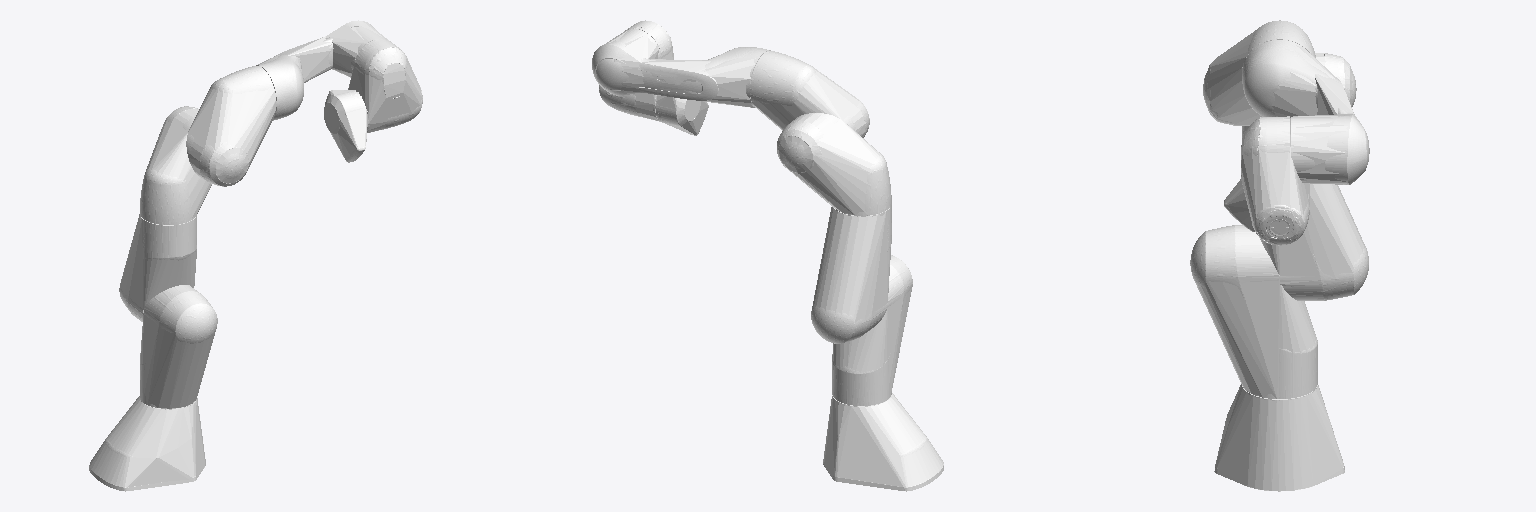
--- Render facts (derived) ---
3 views of the same robot in one strip: view 1: azimuth 30°, elevation 25°; view 2: azimuth 150°, elevation 25°; view 3: azimuth 270°, elevation 25° (orthographic).
Model panda with 19 links and 18 joints (7 revolute, 11 fixed), rooted at world, posed joints at zero except 1 at the middle of their limits (joint4 = -1.57).
Visible links, largest first — view 1: link0, link1, link4, link3, link2, link5, link6, link7; view 2: link2, link0, link5, link3, link1, link4, link6, link7; view 3: link1, link5, link0, link2, link6, link4, link3, link7.
Boxes of the visible links, x1,y1,x2,y2 form: link0: (89,396,205,491); link1: (140,285,217,408); link4: (186,66,276,186); link3: (140,106,211,224); link2: (119,214,196,321); link5: (256,20,387,120); link6: (348,39,422,132); link7: (324,90,367,162); link2: (811,205,891,343); link0: (823,393,943,491); link5: (592,29,770,107); link3: (777,113,891,215); link1: (832,255,912,405); link4: (750,51,869,137); link6: (599,20,673,121); link7: (655,95,708,135); link1: (1190,225,1317,398); link5: (1242,40,1369,184); link0: (1214,384,1344,491); link2: (1260,184,1368,300); link6: (1241,116,1309,245); link4: (1203,20,1315,125); link3: (1242,53,1356,137); link7: (1224,179,1309,231).
Bounding box of the posed robot: 0.7023 × 0.2593 × 0.7866 m (x, y, z).
Meshes: 59 distinct files referenced, 59 mesh visuals loaded (59 binary STL).

URDF robot description (panda):
<?xml version="1.0" ?>
<robot name="panda">
   <link name="world">
      <inertial>
         <origin xyz="0.0 0.0 0.0" rpy="0.0 0.0 0.0"/>
         <mass value="0.0"/>
         <inertia ixx="0.0" iyy="0.0" izz="0.0" ixy="0" ixz="0" iyz="0"/>
      </inertial>
   </link>
   <link name="link0">
      <inertial>
         <origin xyz="-0.041018 -0.00014 0.049974" rpy="2.9931847771355056 -1.4401460588374397 0.14998526383499944"/>
         <mass value="0.629769"/>
         <inertia ixx="0.004304650123430994" iyy="0.0038798390919025367" izz="0.0031305107846664564" ixy="0" ixz="0" iyz="0"/>
      </inertial>
      <visual name="link0_0">
         <origin xyz="-0.02434170827864863 0.06898584107657625 0.037001297313774606" rpy="0.880973363716189 -0.0009012197760431828 1.7310598119246745"/>
         <geometry>
            <mesh filename="package://serial_link_velocity_control/urdf/panda/link0_0.stl"/>
         </geometry>
         <material name="white"/>
      </visual>
      <visual name="link0_1">
         <origin xyz="-0.025005136793976982 0.07288967710097176 0.03697875321042992" rpy="2.3542244690660272 -0.06627609603911444 1.6549332552996283"/>
         <geometry>
            <mesh filename="package://serial_link_velocity_control/urdf/panda/link0_1.stl"/>
         </geometry>
         <material name="white"/>
      </visual>
      <visual name="link0_2">
         <origin xyz="-0.02374683403129674 -0.06535296272360118 0.06299932311266318" rpy="1.570400625854145 -0.00574301314133141 -0.1658989101581949"/>
         <geometry>
            <mesh filename="package://serial_link_velocity_control/urdf/panda/link0_2.stl"/>
         </geometry>
         <material name="white"/>
      </visual>
      <visual name="link0_3">
         <origin xyz="-0.02488420743263477 -0.07268133745438186 0.06293128746546782" rpy="0.8625312366532398 0.08519240253179539 1.2866321540389136"/>
         <geometry>
            <mesh filename="package://serial_link_velocity_control/urdf/panda/link0_3.stl"/>
         </geometry>
         <material name="white"/>
      </visual>
      <visual name="link0_4">
         <origin xyz="-0.06482117710661212 -0.06560424884993189 0.04800137992090077" rpy="0.030375863183620733 0.012032273331113785 1.4114311484698745"/>
         <geometry>
            <mesh filename="package://serial_link_velocity_control/urdf/panda/link0_4.stl"/>
         </geometry>
         <material name="white"/>
      </visual>
      <visual name="link0_5">
         <origin xyz="-0.05963885265197145 0.05788506811766412 0.03690848430709659" rpy="1.7514346619276953 0.0 1.7317833118277146"/>
         <geometry>
            <mesh filename="package://serial_link_velocity_control/urdf/panda/link0_5.stl"/>
         </geometry>
         <material name="white"/>
      </visual>
      <visual name="link0_7">
         <origin xyz="0.011052803835438744 -0.07200003137004433 0.046062701971281546" rpy="-0.12475356481072142 0.0026193383977184403 1.4119155812641373"/>
         <geometry>
            <mesh filename="package://serial_link_velocity_control/urdf/panda/link0_7.stl"/>
         </geometry>
         <material name="white"/>
      </visual>
      <visual name="link0_8">
         <origin xyz="-0.029952925627160853 -3.448017186102211e-05 0.05349454489239895" rpy="-0.0013455850606793884 -1.1356517229066097 -3.1380126798201555"/>
         <geometry>
            <mesh filename="package://serial_link_velocity_control/urdf/panda/link0_8.stl"/>
         </geometry>
         <material name="white"/>
      </visual>
      <visual name="link0_9">
         <origin xyz="-0.024999274401298205 -0.07303207273073183 0.032895042414244305" rpy="1.8630089058543375 -1.5551604165057409 -0.4334036807559073"/>
         <geometry>
            <mesh filename="package://serial_link_velocity_control/urdf/panda/link0_9.stl"/>
         </geometry>
         <material name="white"/>
      </visual>
      <visual name="link0_10">
         <origin xyz="-0.023787200255619093 -0.06548630800088073 0.03297410449192426" rpy="1.545559739370406 -0.011791349830911013 -0.15464279381434776"/>
         <geometry>
            <mesh filename="package://serial_link_velocity_control/urdf/panda/link0_10.stl"/>
         </geometry>
         <material name="white"/>
      </visual>
      <visual name="link0_11">
         <origin xyz="0.011042833195986071 0.07199695886119808 0.046087441451277696" rpy="-0.12477058126482465 -0.0025225701136615264 1.73149025707691"/>
         <geometry>
            <mesh filename="package://serial_link_velocity_control/urdf/panda/link0_11.stl"/>
         </geometry>
         <material name="white"/>
      </visual>
      <visual name="link0_c">
         <origin xyz="-0.029189765433072147 -0.0008794649788944781 0.0566031915141631" rpy="0.07341050648529257 -1.1999954549116756 3.0813768508296935"/>
         <geometry>
            <mesh filename="package://serial_link_velocity_control/urdf/panda/link0_c.stl"/>
         </geometry>
         <material name="white"/>
      </visual>
   </link>
   <link name="world2link0_fixed_jointbody">
      <inertial>
         <origin xyz="0.0 0.0 0.0" rpy="0.0 0.0 0.0"/>
         <mass value="0.001"/>
         <inertia ixx="1e-09" iyy="1e-09" izz="1e-09" ixy="0" ixz="0" iyz="0"/>
      </inertial>
   </link>
   <joint type="fixed" name="world2link0_fixed">
      <parent link="world"/>
      <child link="world2link0_fixed_jointbody"/>
      <origin xyz="0.0 0.0 0.0" rpy="0.0 0.0 0.0"/>
   </joint>
   <joint type="fixed" name="world2link0_fixed_offset">
      <parent link="world2link0_fixed_jointbody"/>
      <child link="link0"/>
      <origin xyz="-0.0 -0.0 -0.0" rpy="0.0 0.0 0.0"/>
   </joint>
   <link name="link1">
      <inertial>
         <origin xyz="0.003875 0.002081 -0.04762" rpy="-0.009398424463752386 -0.027576527378002424 1.5581062750829506"/>
         <mass value="4.970684"/>
         <inertia ixx="0.7071370144883009" iyy="0.7034354292338564" izz="0.00852455627784294" ixy="0" ixz="0" iyz="0"/>
      </inertial>
      <visual name="link1">
         <origin xyz="2.2415553023489027e-06 -0.0324793865141835 -0.06757586693056468" rpy="0.38337043294216616 0.0001406289803520533 -0.0003788308259348727"/>
         <geometry>
            <mesh filename="package://serial_link_velocity_control/urdf/panda/link1.stl"/>
         </geometry>
         <material name="white"/>
      </visual>
      <visual name="link1_c">
         <origin xyz="1.139898131675401e-05 -0.03126552803743275 -0.06937330598619522" rpy="0.3507575596779383 -0.00032182734340535646 0.0006491282822314315"/>
         <geometry>
            <mesh filename="package://serial_link_velocity_control/urdf/panda/link1_c.stl"/>
         </geometry>
         <material name="white"/>
      </visual>
   </link>
   <link name="joint1_jointbody">
      <inertial>
         <origin xyz="0.0 0.0 0.0" rpy="0.0 0.0 0.0"/>
         <mass value="0.001"/>
         <inertia ixx="1e-09" iyy="1e-09" izz="1e-09" ixy="0" ixz="0" iyz="0"/>
      </inertial>
   </link>
   <joint type="revolute" name="joint1">
      <parent link="link0"/>
      <child link="joint1_jointbody"/>
      <origin xyz="0.0 0.0 0.333" rpy="0.0 0.0 0.0"/>
      <axis xyz="0.0 0.0 1.0"/>
      <limit lower="-2.8973" upper="2.8973" effort="100" velocity="100"/>
   </joint>
   <joint type="fixed" name="joint1_offset">
      <parent link="joint1_jointbody"/>
      <child link="link1"/>
      <origin xyz="-0.0 -0.0 -0.0" rpy="0.0 0.0 0.0"/>
   </joint>
   <link name="link2">
      <inertial>
         <origin xyz="-0.003141 -0.02872 0.003495" rpy="-2.351445390606804 -0.9617881563253395 -0.7229855148468698"/>
         <mass value="0.646926"/>
         <inertia ixx="0.03103264256517663" iyy="0.02830010693683385" izz="0.0027342504979895274" ixy="0" ixz="0" iyz="0"/>
      </inertial>
      <visual name="link2">
         <origin xyz="3.082552814544877e-06 -0.0686027528932163 0.03220972991497953" rpy="1.9510754572522944 -0.0003910639464024257 -0.0001327986982335716"/>
         <geometry>
            <mesh filename="package://serial_link_velocity_control/urdf/panda/link2.stl"/>
         </geometry>
         <material name="white"/>
      </visual>
      <visual name="link2_c">
         <origin xyz="-1.3176553398219796e-05 -0.07032155252075616 0.031178239145109848" rpy="1.9167766250212854 3.8633865331982875e-05 -0.00017520097652501398"/>
         <geometry>
            <mesh filename="package://serial_link_velocity_control/urdf/panda/link2_c.stl"/>
         </geometry>
         <material name="white"/>
      </visual>
   </link>
   <link name="joint2_jointbody">
      <inertial>
         <origin xyz="0.0 0.0 0.0" rpy="0.0 0.0 0.0"/>
         <mass value="0.001"/>
         <inertia ixx="1e-09" iyy="1e-09" izz="1e-09" ixy="0" ixz="0" iyz="0"/>
      </inertial>
   </link>
   <joint type="revolute" name="joint2">
      <parent link="link1"/>
      <child link="joint2_jointbody"/>
      <origin xyz="0.0 0.0 0.0" rpy="-1.5707963267948957 0.0 0.0"/>
      <axis xyz="0.0 0.0 1.0"/>
      <limit lower="-1.7628" upper="1.7628" effort="100" velocity="100"/>
   </joint>
   <joint type="fixed" name="joint2_offset">
      <parent link="joint2_jointbody"/>
      <child link="link2"/>
      <origin xyz="-0.0 -0.0 -0.0" rpy="0.0 0.0 0.0"/>
   </joint>
   <link name="link3">
      <inertial>
         <origin xyz="0.027518 0.039252 -0.066502" rpy="0.3778501466112161 0.35082398169136897 1.700415077209322"/>
         <mass value="3.228604"/>
         <inertia ixx="0.04150138828861061" iyy="0.041479257270665607" izz="0.0012463544407238245" ixy="0" ixz="0" iyz="0"/>
      </inertial>
      <visual name="link3_0">
         <origin xyz="0.041640068238247625 0.02444145064489676 -0.03727492899749336" rpy="0.5706582651359984 -0.7242337013714822 2.9041155029297663"/>
         <geometry>
            <mesh filename="package://serial_link_velocity_control/urdf/panda/link3_0.stl"/>
         </geometry>
         <material name="white"/>
      </visual>
      <visual name="link3_1">
         <origin xyz="0.021553479391113937 -0.011223170495539583 -0.011548319295510683" rpy="-3.120213348556372 -1.0597565825250004 -1.4907529125912147"/>
         <geometry>
            <mesh filename="package://serial_link_velocity_control/urdf/panda/link3_1.stl"/>
         </geometry>
         <material name="white"/>
      </visual>
      <visual name="link3_2">
         <origin xyz="0.05687671258214232 -0.011394921134909891 -0.061174465035796516" rpy="0.001435371332802804 -0.007864445829217637 2.35018648336946"/>
         <geometry>
            <mesh filename="package://serial_link_velocity_control/urdf/panda/link3_2.stl"/>
         </geometry>
         <material name="white"/>
      </visual>
      <visual name="link3_3">
         <origin xyz="0.0774911722691585 0.07963346976350043 -0.004022888793941207" rpy="0.9103807155185194 0.053157500438791194 1.6361659571787897"/>
         <geometry>
            <mesh filename="package://serial_link_velocity_control/urdf/panda/link3_3.stl"/>
         </geometry>
         <material name="white"/>
      </visual>
      <visual name="link3_c">
         <origin xyz="0.04434830616977217 0.02492832585533832 -0.038129984535498415" rpy="0.626428153968636 -0.648912402886591 2.7888150643653695"/>
         <geometry>
            <mesh filename="package://serial_link_velocity_control/urdf/panda/link3_c.stl"/>
         </geometry>
         <material name="white"/>
      </visual>
   </link>
   <link name="joint3_jointbody">
      <inertial>
         <origin xyz="0.0 0.0 0.0" rpy="0.0 0.0 0.0"/>
         <mass value="0.001"/>
         <inertia ixx="1e-09" iyy="1e-09" izz="1e-09" ixy="0" ixz="0" iyz="0"/>
      </inertial>
   </link>
   <joint type="revolute" name="joint3">
      <parent link="link2"/>
      <child link="joint3_jointbody"/>
      <origin xyz="0.0 -0.316 0.0" rpy="1.5707963267948963 0.0 0.0"/>
      <axis xyz="0.0 0.0 1.0"/>
      <limit lower="-2.8973" upper="2.8973" effort="100" velocity="100"/>
   </joint>
   <joint type="fixed" name="joint3_offset">
      <parent link="joint3_jointbody"/>
      <child link="link3"/>
      <origin xyz="-0.0 -0.0 -0.0" rpy="0.0 0.0 0.0"/>
   </joint>
   <link name="link4">
      <inertial>
         <origin xyz="-0.05317 0.104419 0.027454" rpy="0.9491374145817448 -0.7651341090237642 0.9696855662634021"/>
         <mass value="3.587895"/>
         <inertia ixx="0.03495964042412706" iyy="0.028148276242039156" izz="0.010620083333833793" ixy="0" ixz="0" iyz="0"/>
      </inertial>
      <visual name="link4_0">
         <origin xyz="-0.025622488327255118 0.06118521662292073 -0.011393831419087433" rpy="-1.5781503842543603 -0.791264048531453 -3.129597040233699"/>
         <geometry>
            <mesh filename="package://serial_link_velocity_control/urdf/panda/link4_0.stl"/>
         </geometry>
         <material name="white"/>
      </visual>
      <visual name="link4_1">
         <origin xyz="-0.041551945541200064 0.0386938054188419 0.0240401850668444" rpy="1.1469171347861942 0.32720361122677777 0.6576570081488589"/>
         <geometry>
            <mesh filename="package://serial_link_velocity_control/urdf/panda/link4_1.stl"/>
         </geometry>
         <material name="white"/>
      </visual>
      <visual name="link4_2">
         <origin xyz="-0.005009009022661778 0.004010283391626417 0.07963447115932043" rpy="0.01728704864213415 -1.486693348601789 2.462376326505357"/>
         <geometry>
            <mesh filename="package://serial_link_velocity_control/urdf/panda/link4_2.stl"/>
         </geometry>
         <material name="white"/>
      </visual>
      <visual name="link4_3">
         <origin xyz="-0.060935694895702566 0.011544521319742486 -0.011228485394216723" rpy="-0.11249836460882134 -0.5091463835382632 1.6149866607207919"/>
         <geometry>
            <mesh filename="package://serial_link_velocity_control/urdf/panda/link4_3.stl"/>
         </geometry>
         <material name="white"/>
      </visual>
      <visual name="link4_c">
         <origin xyz="-0.038550294327056006 0.03952560974766748 0.024716241456280232" rpy="1.1575252530204931 0.36233734062035716 0.6286469250141417"/>
         <geometry>
            <mesh filename="package://serial_link_velocity_control/urdf/panda/link4_c.stl"/>
         </geometry>
         <material name="white"/>
      </visual>
   </link>
   <link name="joint4_jointbody">
      <inertial>
         <origin xyz="0.0 0.0 0.0" rpy="0.0 0.0 0.0"/>
         <mass value="0.001"/>
         <inertia ixx="1e-09" iyy="1e-09" izz="1e-09" ixy="0" ixz="0" iyz="0"/>
      </inertial>
   </link>
   <joint type="revolute" name="joint4">
      <parent link="link3"/>
      <child link="joint4_jointbody"/>
      <origin xyz="0.0825 0.0 0.0" rpy="1.5707963267948963 0.0 0.0"/>
      <axis xyz="0.0 0.0 1.0"/>
      <limit lower="-3.0718" upper="-0.0698" effort="100" velocity="100"/>
   </joint>
   <joint type="fixed" name="joint4_offset">
      <parent link="joint4_jointbody"/>
      <child link="link4"/>
      <origin xyz="-0.0 -0.0 -0.0" rpy="0.0 0.0 0.0"/>
   </joint>
   <link name="link5">
      <inertial>
         <origin xyz="-0.011953 0.041065 -0.038437" rpy="-0.044814900263277224 0.13901987254385828 -0.28689982178911855"/>
         <mass value="1.225946"/>
         <inertia ixx="0.036762538266730406" iyy="0.028853091260661545" izz="0.008034370472607986" ixy="0" ixz="0" iyz="0"/>
      </inertial>
      <visual name="link5_0">
         <origin xyz="-0.00012909492629801462 0.09575388251980099 -0.032729627427273554" rpy="0.0021646835541119236 0.04994665119289898 1.567102784696114"/>
         <geometry>
            <mesh filename="package://serial_link_velocity_control/urdf/panda/link5_0.stl"/>
         </geometry>
         <material name="white"/>
      </visual>
      <visual name="link5_1">
         <origin xyz="-0.010146972443801154 0.10322721118137058 -0.11142128916989294" rpy="0.12574712873999883 0.1740382997721901 1.6920328910758133"/>
         <geometry>
            <mesh filename="package://serial_link_velocity_control/urdf/panda/link5_1.stl"/>
         </geometry>
         <material name="white"/>
      </visual>
      <visual name="link5_2">
         <origin xyz="-1.4686699630523936e-07 0.04425269920212681 -0.1112985359040258" rpy="-0.277000339204742 2.4900251497594894e-05 6.554603773703538e-05"/>
         <geometry>
            <mesh filename="package://serial_link_velocity_control/urdf/panda/link5_2.stl"/>
         </geometry>
         <material name="white"/>
      </visual>
      <visual name="link5_c0">
         <origin xyz="0.0009732588248875004 0.01992222155582667 -0.2091069569367147" rpy="-2.9667461948525857 -0.9061652263669018 -1.8724935166030865"/>
         <geometry>
            <mesh filename="package://serial_link_velocity_control/urdf/panda/link5_c0.stl"/>
         </geometry>
         <material name="white"/>
      </visual>
      <visual name="link5_c1">
         <origin xyz="-0.00023507017418093157 0.08005924943045238 -0.1211534524078704" rpy="0.003785613762778528 0.24683558048800136 1.566413582373388"/>
         <geometry>
            <mesh filename="package://serial_link_velocity_control/urdf/panda/link5_c1.stl"/>
         </geometry>
         <material name="white"/>
      </visual>
      <visual name="link5_c2">
         <origin xyz="0.00015025343019191157 0.06918297231373394 -0.0045388308900191476" rpy="1.1780917965966649 -0.005182717314899277 0.005207657314431291"/>
         <geometry>
            <mesh filename="package://serial_link_velocity_control/urdf/panda/link5_c2.stl"/>
         </geometry>
         <material name="white"/>
      </visual>
   </link>
   <link name="joint5_jointbody">
      <inertial>
         <origin xyz="0.0 0.0 0.0" rpy="0.0 0.0 0.0"/>
         <mass value="0.001"/>
         <inertia ixx="1e-09" iyy="1e-09" izz="1e-09" ixy="0" ixz="0" iyz="0"/>
      </inertial>
   </link>
   <joint type="revolute" name="joint5">
      <parent link="link4"/>
      <child link="joint5_jointbody"/>
      <origin xyz="-0.0825 0.384 0.0" rpy="-1.5707963267948957 0.0 0.0"/>
      <axis xyz="0.0 0.0 1.0"/>
      <limit lower="-2.8973" upper="2.8973" effort="100" velocity="100"/>
   </joint>
   <joint type="fixed" name="joint5_offset">
      <parent link="joint5_jointbody"/>
      <child link="link5"/>
      <origin xyz="-0.0 -0.0 -0.0" rpy="0.0 0.0 0.0"/>
   </joint>
   <link name="link6">
      <inertial>
         <origin xyz="0.060149 -0.014117 -0.010517" rpy="0.5130248250154139 -1.226242130979657 2.5246615081940447"/>
         <mass value="1.666555"/>
         <inertia ixx="0.005842761226567758" iyy="0.004310373704197247" izz="0.001597865069234999" ixy="0" ixz="0" iyz="0"/>
      </inertial>
      <visual name="link6_0">
         <origin xyz="0.02538686447802162 -0.015517999517566645 -0.005139967609184323" rpy="0.16938182569949167 -1.5174186885981678 2.459071962290328"/>
         <geometry>
            <mesh filename="package://serial_link_velocity_control/urdf/panda/link6_0.stl"/>
         </geometry>
         <material name="white"/>
      </visual>
      <visual name="link6_1">
         <origin xyz="9.689128832379959e-05 0.0014892221633303964 0.052967305243251064" rpy="-1.7817827520867562 -1.469193019363885 -3.137555930389527"/>
         <geometry>
            <mesh filename="package://serial_link_velocity_control/urdf/panda/link6_1.stl"/>
         </geometry>
         <material name="white"/>
      </visual>
      <visual name="link6_2">
         <origin xyz="0.10335279374141482 0.06819413403472291 -0.0005820739711053017" rpy="1.4199871988638346 -0.00991189976398843 1.3432543848060097"/>
         <geometry>
            <mesh filename="package://serial_link_velocity_control/urdf/panda/link6_2.stl"/>
         </geometry>
         <material name="white"/>
      </visual>
      <visual name="link6_3">
         <origin xyz="0.08820547902869498 0.07772552742710913 -0.010604832221086087" rpy="0.0 0.0 0.0"/>
         <geometry>
            <mesh filename="package://serial_link_velocity_control/urdf/panda/link6_3.stl"/>
         </geometry>
         <material name="white"/>
      </visual>
      <visual name="link6_4">
         <origin xyz="0.09866820805357215 0.07588488001934049 -3.81838160576121e-06" rpy="1.5707963267948966 0.0 1.5707963267948966"/>
         <geometry>
            <mesh filename="package://serial_link_velocity_control/urdf/panda/link6_4.stl"/>
         </geometry>
         <material name="white"/>
      </visual>
      <visual name="link6_5">
         <origin xyz="0.08820306922578453 0.07772792027195963 0.010619455932352537" rpy="0.0 0.0 0.0"/>
         <geometry>
            <mesh filename="package://serial_link_velocity_control/urdf/panda/link6_5.stl"/>
         </geometry>
         <material name="white"/>
      </visual>
      <visual name="link6_6">
         <origin xyz="0.07775599126433871 0.07956951222410712 -2.4452554468482235e-06" rpy="1.5707963267948966 0.0 1.5707963267948966"/>
         <geometry>
            <mesh filename="package://serial_link_velocity_control/urdf/panda/link6_6.stl"/>
         </geometry>
         <material name="white"/>
      </visual>
      <visual name="link6_7">
         <origin xyz="0.06338933259232485 0.08160700790590893 -1.3937560629892504e-07" rpy="0.0 0.0 0.0"/>
         <geometry>
            <mesh filename="package://serial_link_velocity_control/urdf/panda/link6_7.stl"/>
         </geometry>
         <material name="white"/>
      </visual>
      <visual name="link6_8">
         <origin xyz="0.11443524703111396 0.07093671511705132 -1.2390757832945407e-06" rpy="0.0 0.0 0.0"/>
         <geometry>
            <mesh filename="package://serial_link_velocity_control/urdf/panda/link6_8.stl"/>
         </geometry>
         <material name="white"/>
      </visual>
      <visual name="link6_9">
         <origin xyz="-0.0007293920031106048 -0.00010126877906188475 0.05253737664613466" rpy="-0.012449674714164694 -1.4689421759503425 3.141592653589792"/>
         <geometry>
            <mesh filename="package://serial_link_velocity_control/urdf/panda/link6_9.stl"/>
         </geometry>
         <material name="white"/>
      </visual>
      <visual name="link6_10">
         <origin xyz="0.09152592175245416 0.0757530570043529 -6.295970548351355e-05" rpy="1.6008551676500014 -0.0005903012823613718 1.3515726366307061"/>
         <geometry>
            <mesh filename="package://serial_link_velocity_control/urdf/panda/link6_10.stl"/>
         </geometry>
         <material name="white"/>
      </visual>
      <visual name="link6_11">
         <origin xyz="0.08805238798691446 0.07680706807855985 -1.2221260829161016e-05" rpy="0.0 0.0 1.3960084451673758"/>
         <geometry>
            <mesh filename="package://serial_link_velocity_control/urdf/panda/link6_11.stl"/>
         </geometry>
         <material name="white"/>
      </visual>
      <visual name="link6_12">
         <origin xyz="0.08830262427138909 0.07748927077959734 -0.024865583303171047" rpy="0.0 0.0 0.0"/>
         <geometry>
            <mesh filename="package://serial_link_velocity_control/urdf/panda/link6_12.stl"/>
         </geometry>
         <material name="white"/>
      </visual>
      <visual name="link6_13">
         <origin xyz="0.08817030186691406 0.07745552562261102 0.025032424929417766" rpy="0.0 0.0 0.0"/>
         <geometry>
            <mesh filename="package://serial_link_velocity_control/urdf/panda/link6_13.stl"/>
         </geometry>
         <material name="white"/>
      </visual>
      <visual name="link6_14">
         <origin xyz="0.007414994534614738 0.00012494443217778557 0.04372135866398126" rpy="0.028641362656910196 -1.4710580780940545 3.124202338178222"/>
         <geometry>
            <mesh filename="package://serial_link_velocity_control/urdf/panda/link6_14.stl"/>
         </geometry>
         <material name="white"/>
      </visual>
      <visual name="link6_15">
         <origin xyz="0.08954532269660534 0.07420171067115874 -2.5736658022989506e-05" rpy="1.545020808617562 5.602602767806886e-05 1.3505365066848027"/>
         <geometry>
            <mesh filename="package://serial_link_velocity_control/urdf/panda/link6_15.stl"/>
         </geometry>
         <material name="white"/>
      </visual>
      <visual name="link6_16">
         <origin xyz="0.058400500168428585 0.0035178914667928943 0.008369866685103824" rpy="2.9469650358345403 -1.3099440708155625 0.18028473465261263"/>
         <geometry>
            <mesh filename="package://serial_link_velocity_control/urdf/panda/link6_16.stl"/>
         </geometry>
         <material name="white"/>
      </visual>
      <visual name="link6_c">
         <origin xyz="0.05100229436563991 0.00693267296652053 0.006168993350723507" rpy="-3.0615998737983503 -1.4277689715854656 0.048520706407402026"/>
         <geometry>
            <mesh filename="package://serial_link_velocity_control/urdf/panda/link6_c.stl"/>
         </geometry>
         <material name="white"/>
      </visual>
   </link>
   <link name="joint6_jointbody">
      <inertial>
         <origin xyz="0.0 0.0 0.0" rpy="0.0 0.0 0.0"/>
         <mass value="0.001"/>
         <inertia ixx="1e-09" iyy="1e-09" izz="1e-09" ixy="0" ixz="0" iyz="0"/>
      </inertial>
   </link>
   <joint type="revolute" name="joint6">
      <parent link="link5"/>
      <child link="joint6_jointbody"/>
      <origin xyz="0.0 0.0 0.0" rpy="1.5707963267948963 0.0 0.0"/>
      <axis xyz="0.0 0.0 1.0"/>
      <limit lower="-0.0175" upper="3.7525" effort="100" velocity="100"/>
   </joint>
   <joint type="fixed" name="joint6_offset">
      <parent link="joint6_jointbody"/>
      <child link="link6"/>
      <origin xyz="-0.0 -0.0 -0.0" rpy="0.0 0.0 0.0"/>
   </joint>
   <link name="link7">
      <inertial>
         <origin xyz="0.010517 -0.004252 0.061597" rpy="-0.16143881793285997 0.13793462387520372 -0.11924774686192664"/>
         <mass value="0.735522"/>
         <inertia ixx="0.012734492874724473" iyy="0.01010547714435622" izz="0.004518029980919309" ixy="0" ixz="0" iyz="0"/>
      </inertial>
      <visual name="link7_0">
         <origin xyz="0.0417779426692942 0.04183594153686578 0.08217258109746292" rpy="-1.5847380549916703 -1.3546061346436344 -2.3566710587689474"/>
         <geometry>
            <mesh filename="package://serial_link_velocity_control/urdf/panda/link7_0.stl"/>
         </geometry>
         <material name="white"/>
      </visual>
      <visual name="link7_1">
         <origin xyz="0.06381389846298816 0.017703890911316744 0.08298637529119146" rpy="1.8028623083017221 0.00204124247127746 -0.7013431721034276"/>
         <geometry>
            <mesh filename="package://serial_link_velocity_control/urdf/panda/link7_1.stl"/>
         </geometry>
         <material name="white"/>
      </visual>
      <visual name="link7_2">
         <origin xyz="-0.03175903413233844 -0.03176074799868773 0.08578121033420426" rpy="-1.6960048566709056 -1.4537424549146334 2.4810845843512017"/>
         <geometry>
            <mesh filename="package://serial_link_velocity_control/urdf/panda/link7_2.stl"/>
         </geometry>
         <material name="white"/>
      </visual>
      <visual name="link7_3">
         <origin xyz="-0.03695030723409938 -0.03694226974833503 0.08580172086500923" rpy="0.0 0.0 0.785109248980203"/>
         <geometry>
            <mesh filename="package://serial_link_velocity_control/urdf/panda/link7_3.stl"/>
         </geometry>
         <material name="white"/>
      </visual>
      <visual name="link7_4">
         <origin xyz="-0.03770673339557498 -0.0377089860787648 0.08578035625964707" rpy="0.0 0.0 0.7851522524329011"/>
         <geometry>
            <mesh filename="package://serial_link_velocity_control/urdf/panda/link7_4.stl"/>
         </geometry>
         <material name="white"/>
      </visual>
      <visual name="link7_5">
         <origin xyz="0.017698489516545266 0.0638384990368043 0.08295575737681099" rpy="1.3374821199933173 0.0024362159157849117 2.271496449874789"/>
         <geometry>
            <mesh filename="package://serial_link_velocity_control/urdf/panda/link7_5.stl"/>
         </geometry>
         <material name="white"/>
      </visual>
      <visual name="link7_6">
         <origin xyz="0.041159655074071815 0.04120412941972867 0.06775823859611065" rpy="-1.575019937447098 -1.2906385873622823 -2.352616845843026"/>
         <geometry>
            <mesh filename="package://serial_link_velocity_control/urdf/panda/link7_6.stl"/>
         </geometry>
         <material name="white"/>
      </visual>
      <visual name="link7_7">
         <origin xyz="1.216750754237956e-06 4.2939759647026276e-05 0.07774802576613041" rpy="-1.6481695820319127 -1.5676263444402883 -1.495812317959907"/>
         <geometry>
            <mesh filename="package://serial_link_velocity_control/urdf/panda/link7_7.stl"/>
         </geometry>
         <material name="white"/>
      </visual>
      <visual name="link7_c">
         <origin xyz="0.010361372115882629 0.010359603871236887 0.07910777287138845" rpy="3.138032285623005 -1.5171405401134985 -2.3520385516245224"/>
         <geometry>
            <mesh filename="package://serial_link_velocity_control/urdf/panda/link7_c.stl"/>
         </geometry>
         <material name="white"/>
      </visual>
   </link>
   <link name="joint7_jointbody">
      <inertial>
         <origin xyz="0.0 0.0 0.0" rpy="0.0 0.0 0.0"/>
         <mass value="0.001"/>
         <inertia ixx="1e-09" iyy="1e-09" izz="1e-09" ixy="0" ixz="0" iyz="0"/>
      </inertial>
   </link>
   <joint type="revolute" name="joint7">
      <parent link="link6"/>
      <child link="joint7_jointbody"/>
      <origin xyz="0.088 0.0 0.0" rpy="1.5707963267948963 0.0 0.0"/>
      <axis xyz="0.0 0.0 1.0"/>
      <limit lower="-2.8973" upper="2.8973" effort="100" velocity="100"/>
   </joint>
   <joint type="fixed" name="joint7_offset">
      <parent link="joint7_jointbody"/>
      <child link="link7"/>
      <origin xyz="-0.0 -0.0 -0.0" rpy="0.0 0.0 0.0"/>
   </joint>
   <link name="attachment">
      <inertial>
         <origin xyz="0.0 0.0 0.107" rpy="0.0 0.0 2.3561945251121728"/>
         <mass value="0.0"/>
         <inertia ixx="0.0" iyy="0.0" izz="0.0" ixy="0" ixz="0" iyz="0"/>
      </inertial>
   </link>
   <link name="link72attachment_fixed_jointbody">
      <inertial>
         <origin xyz="0.0 0.0 0.0" rpy="0.0 0.0 0.0"/>
         <mass value="0.001"/>
         <inertia ixx="1e-09" iyy="1e-09" izz="1e-09" ixy="0" ixz="0" iyz="0"/>
      </inertial>
   </link>
   <joint type="fixed" name="link72attachment_fixed">
      <parent link="link7"/>
      <child link="link72attachment_fixed_jointbody"/>
      <origin xyz="0.0 0.0 0.107" rpy="0.0 0.0 2.3561945251121728"/>
   </joint>
   <joint type="fixed" name="link72attachment_fixed_offset">
      <parent link="link72attachment_fixed_jointbody"/>
      <child link="attachment"/>
      <origin xyz="-0.0 -0.0 -0.0" rpy="0.0 0.0 0.0"/>
   </joint>
   <material name="white">
      <color rgba="1 1 1 1"/>
   </material>
</robot>
